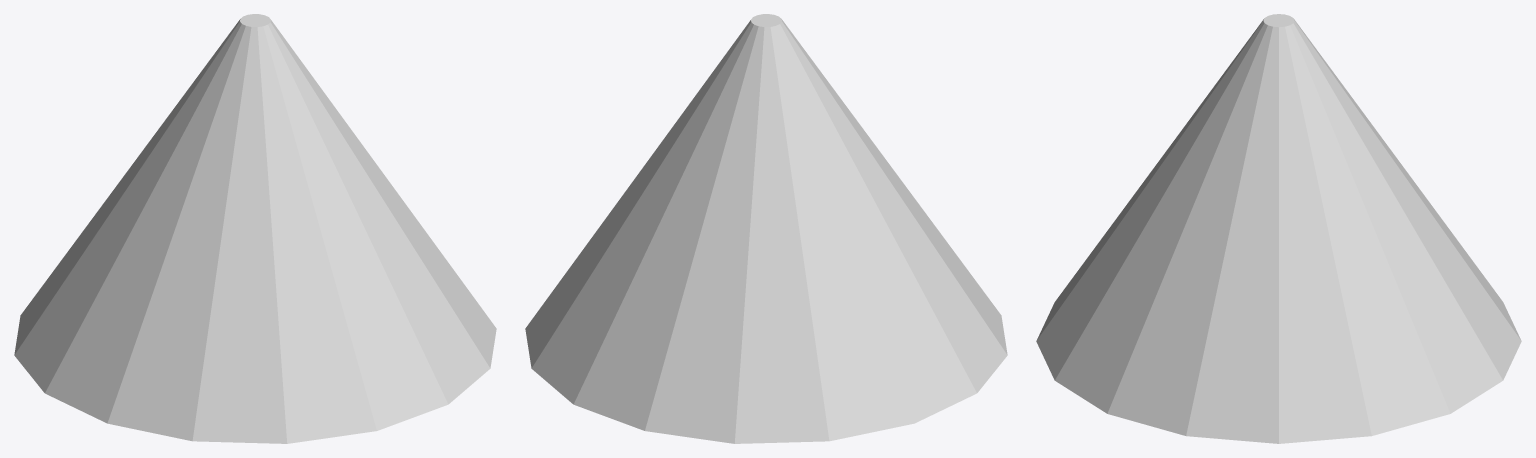
The model's file is LightCone.fbx.
The picture shows the model from 3 angles, left to right: view 1: azimuth 30°, elevation 25°; view 2: azimuth 150°, elevation 25°; view 3: azimuth 270°, elevation 25°; orthographic projection.
Parts seen in each view (by area): view 1: LightCone; view 2: LightCone; view 3: LightCone.
Part boxes in pixels (left/top/right/bottom): LightCone: left=14, top=14, right=496, bottom=443; LightCone: left=525, top=14, right=1007, bottom=443; LightCone: left=1036, top=14, right=1521, bottom=443.
Size of the model in its own units: 3.1 by 2.26 by 3.1.
